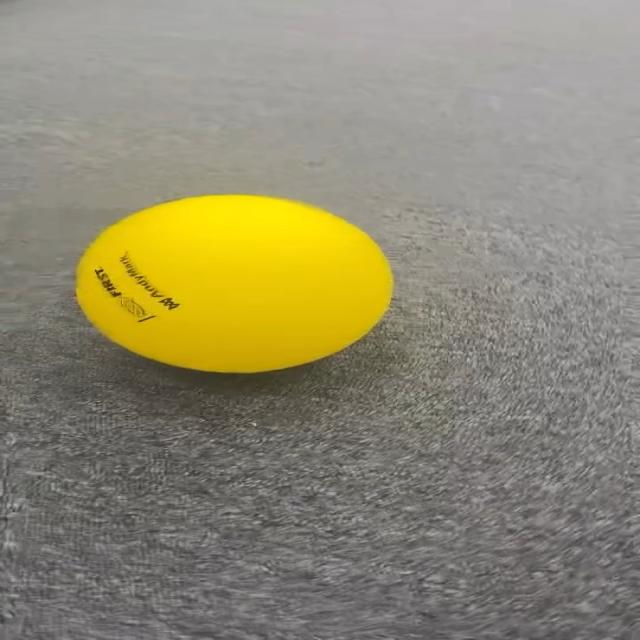Fuels: (76, 195, 389, 368)
